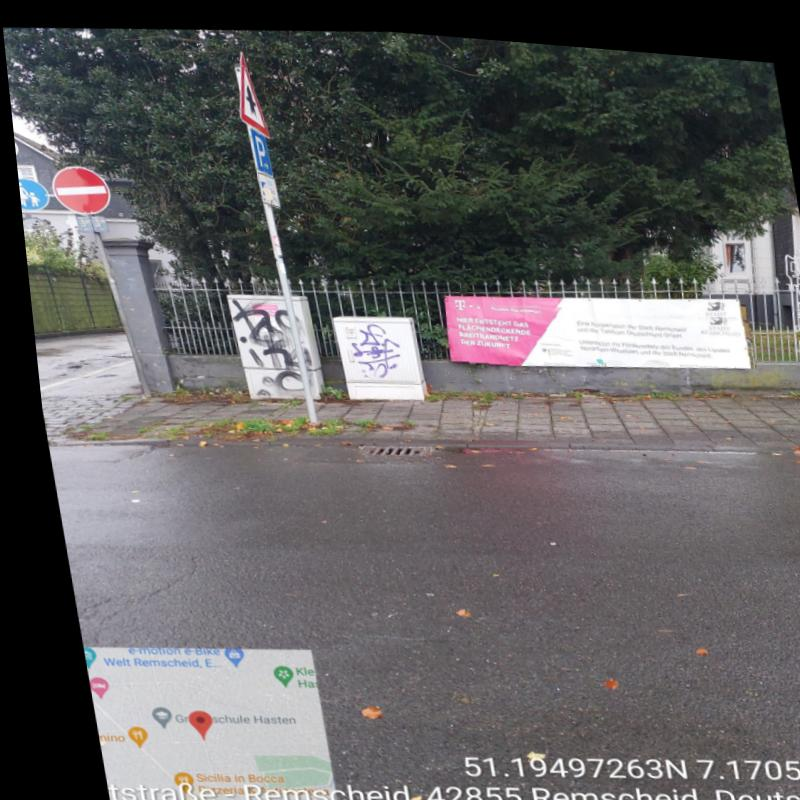Banner: (436, 271, 751, 377)
